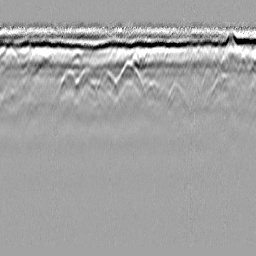cavity: (111, 60, 146, 96)
